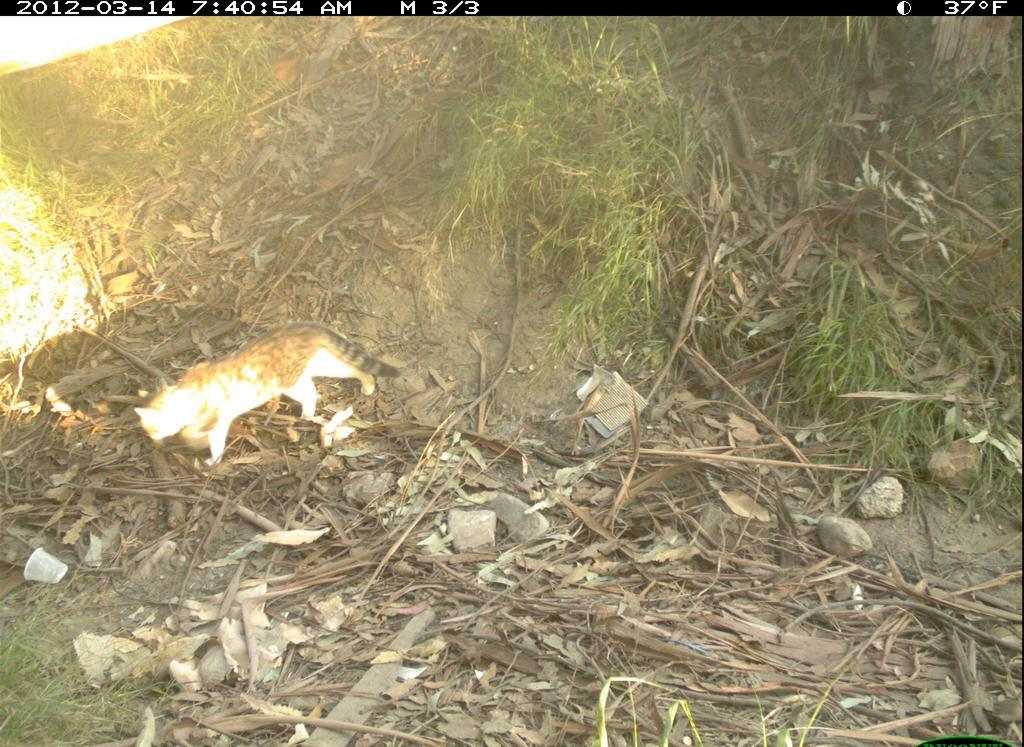cat: (129, 318, 406, 482)
